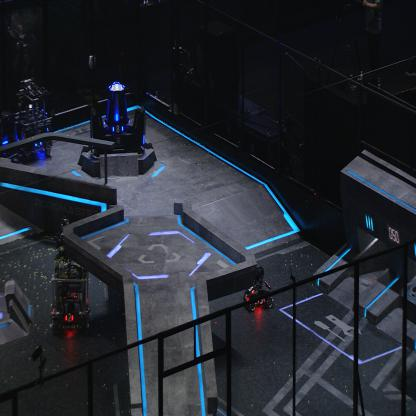car: (49, 246, 91, 334), (13, 79, 54, 160), (242, 267, 275, 313), (0, 108, 20, 169)
